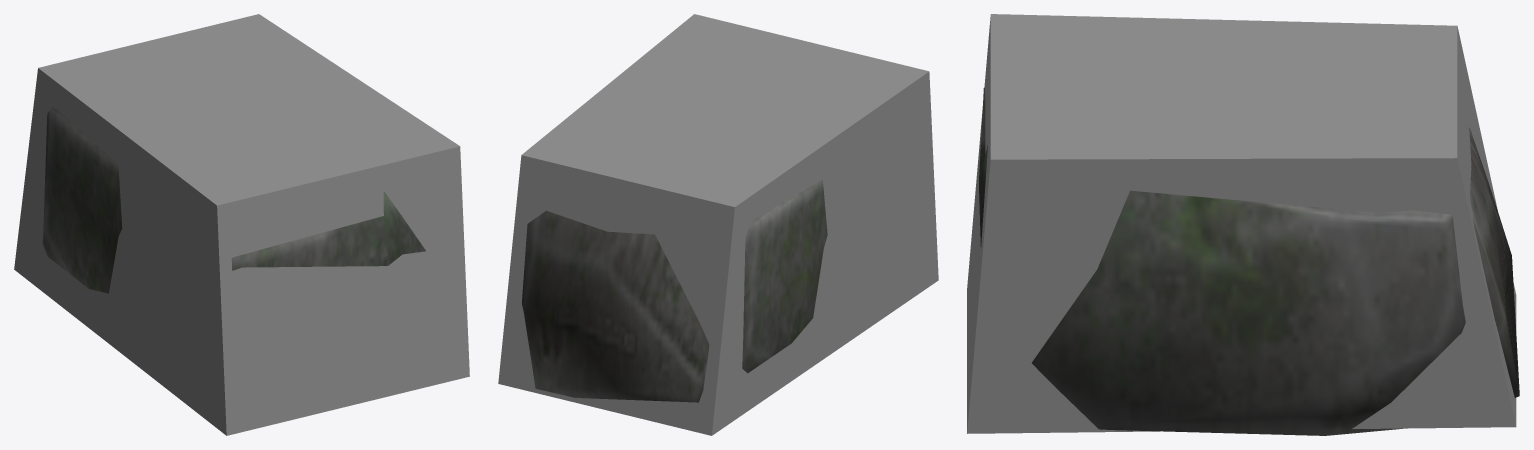
File: Scene_Rock_SuiShiTi_5.fbx
3 renders of one model, left to right at view 1: azimuth 30°, elevation 25°; view 2: azimuth 150°, elevation 25°; view 3: azimuth 270°, elevation 25°, orthographic. The views are drawn at different scales.
Parts seen in each view (by area): view 1: Scene_Rock_SuiShiTi_5_Xzm, Scene_Rock_SuiShiTi_5; view 2: Scene_Rock_SuiShiTi_5_Xzm, Scene_Rock_SuiShiTi_5; view 3: Scene_Rock_SuiShiTi_5_Xzm, Scene_Rock_SuiShiTi_5.
Boxes of the visible parts, x1,y1,x2,y2 form: Scene_Rock_SuiShiTi_5_Xzm: (14,14,469,435); Scene_Rock_SuiShiTi_5: (42,107,425,293); Scene_Rock_SuiShiTi_5_Xzm: (498,14,938,435); Scene_Rock_SuiShiTi_5: (522,179,827,402); Scene_Rock_SuiShiTi_5_Xzm: (967,14,1516,433); Scene_Rock_SuiShiTi_5: (978,87,1519,435).
Bounding box in the file's own units: 50.19 × 44.86 × 80.47.
